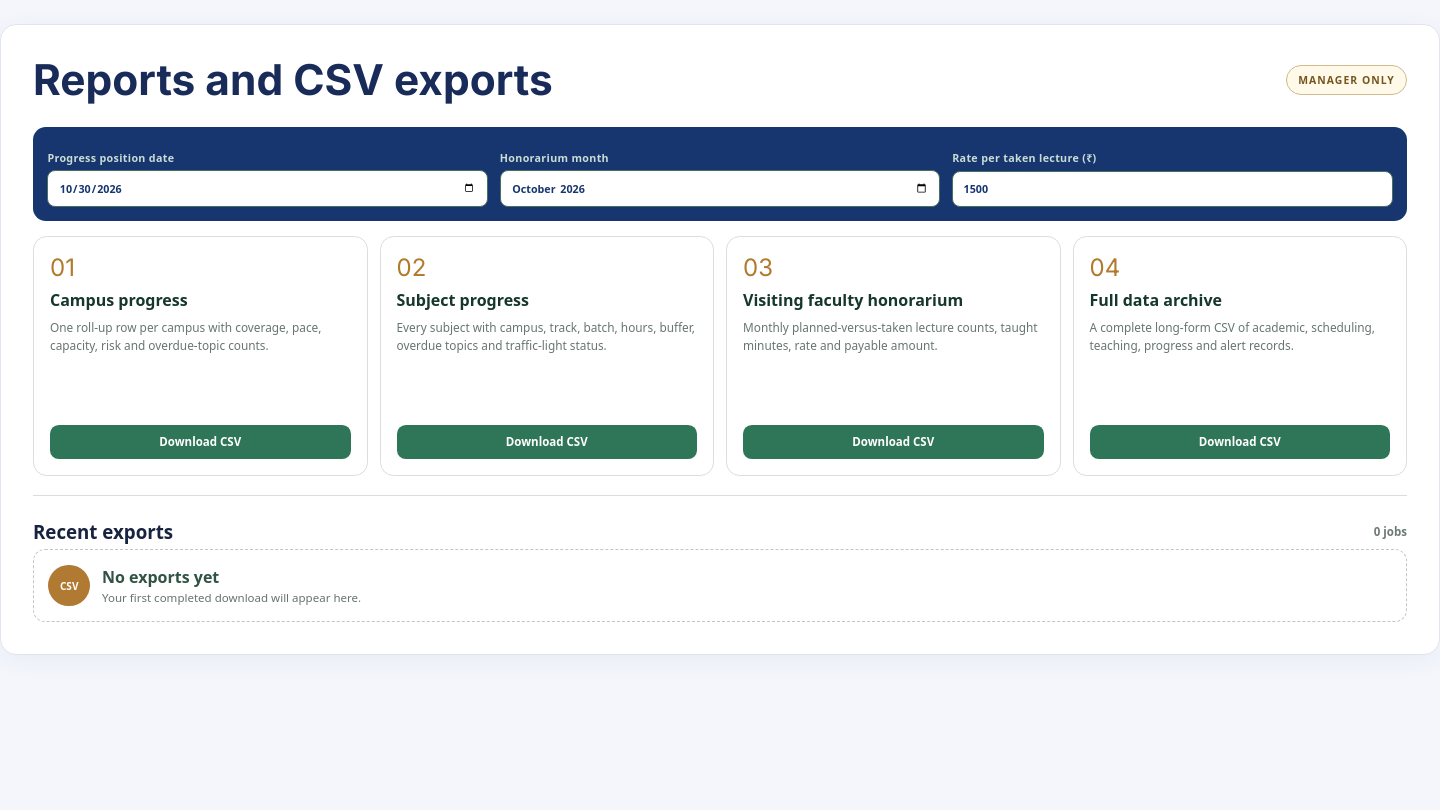
Test: ExportCenter › sends the selected month and per-lecture rate for honorarium
The image size is (1440, 810).
Check: the text "No exports yet" is shown, box top-left (102, 566), bottom-right (219, 588)
Replace the text in the field labelled "Honorarium month" with "2026-09" at (720, 189), box top-left (500, 170), bottom-right (940, 207)
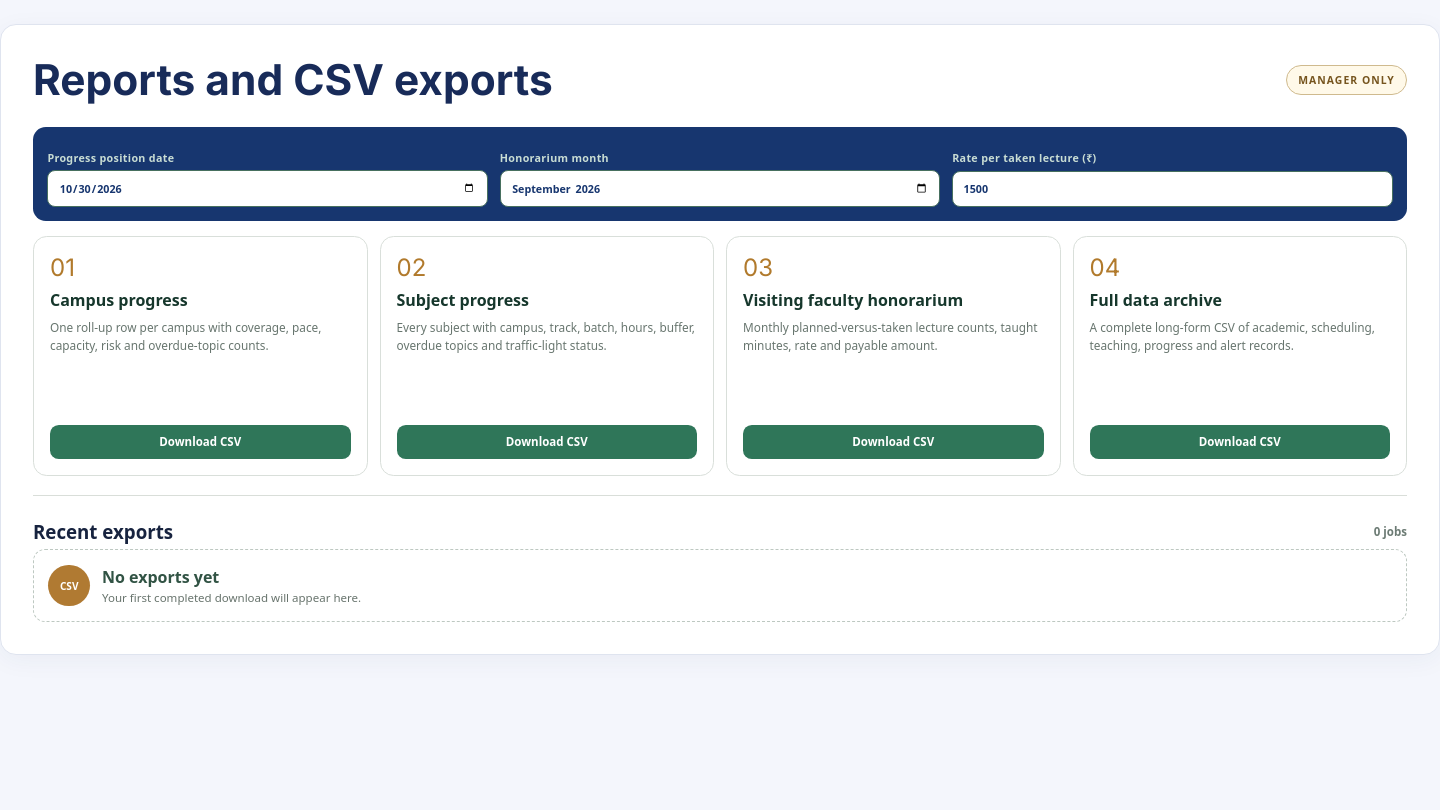
Replace the text in the number field labelled "Rate per taken lecture (₹)" with "1800" at (1172, 189), box top-left (952, 171), bottom-right (1393, 207)
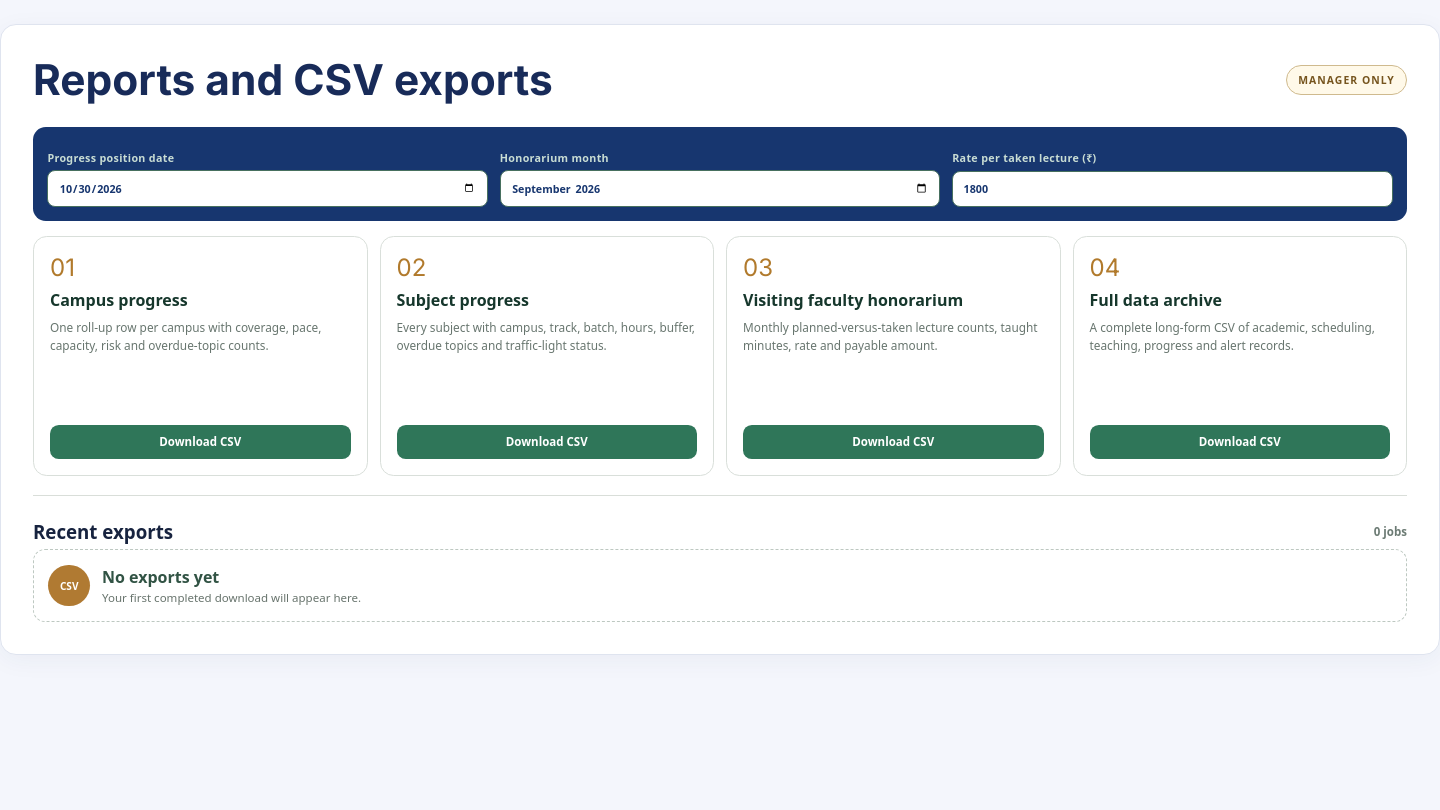
Click the button "Download CSV" below "Visiting faculty honorarium" at (893, 442), box top-left (743, 425), bottom-right (1044, 459)
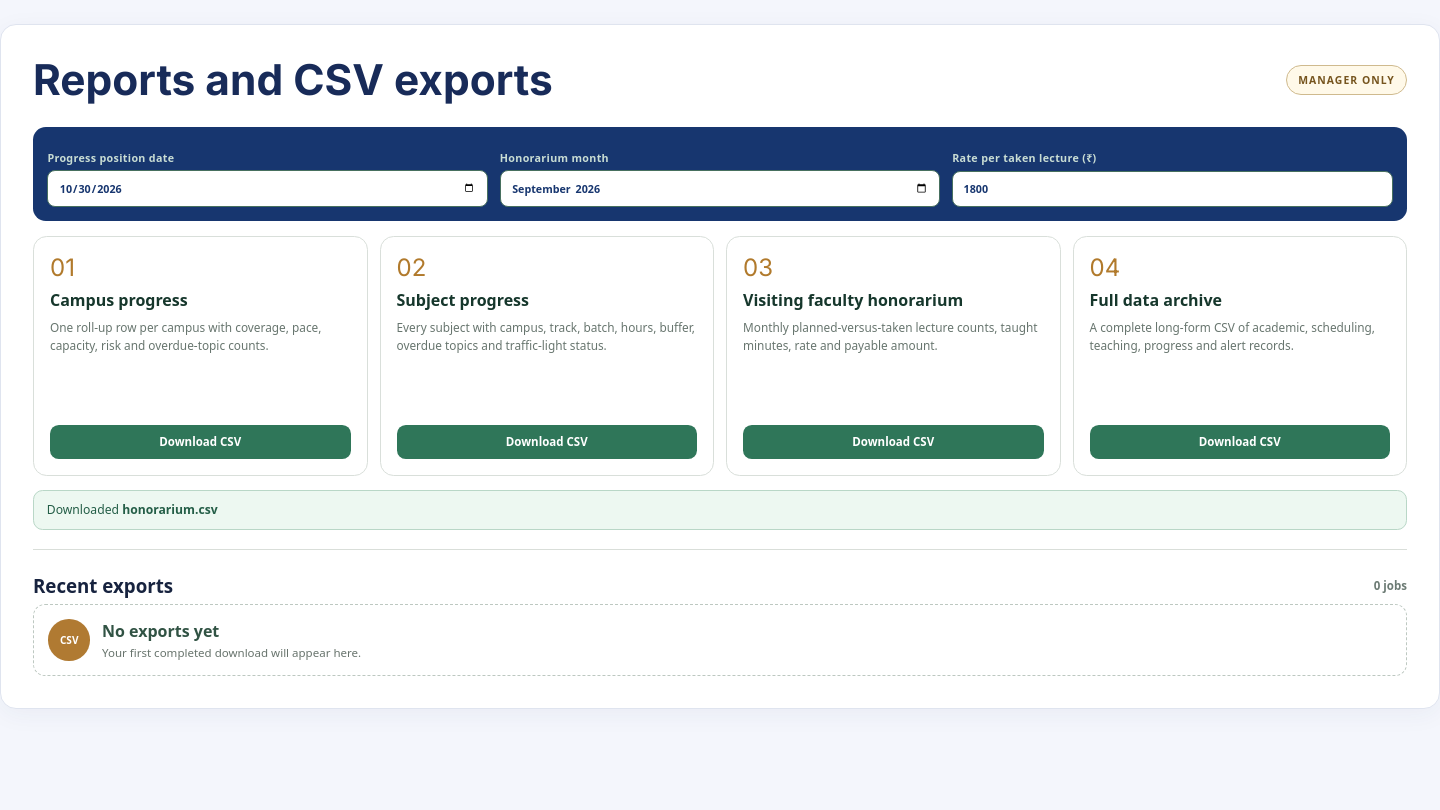
Check: the text "honorarium.csv" is shown, box top-left (122, 502), bottom-right (218, 518)
